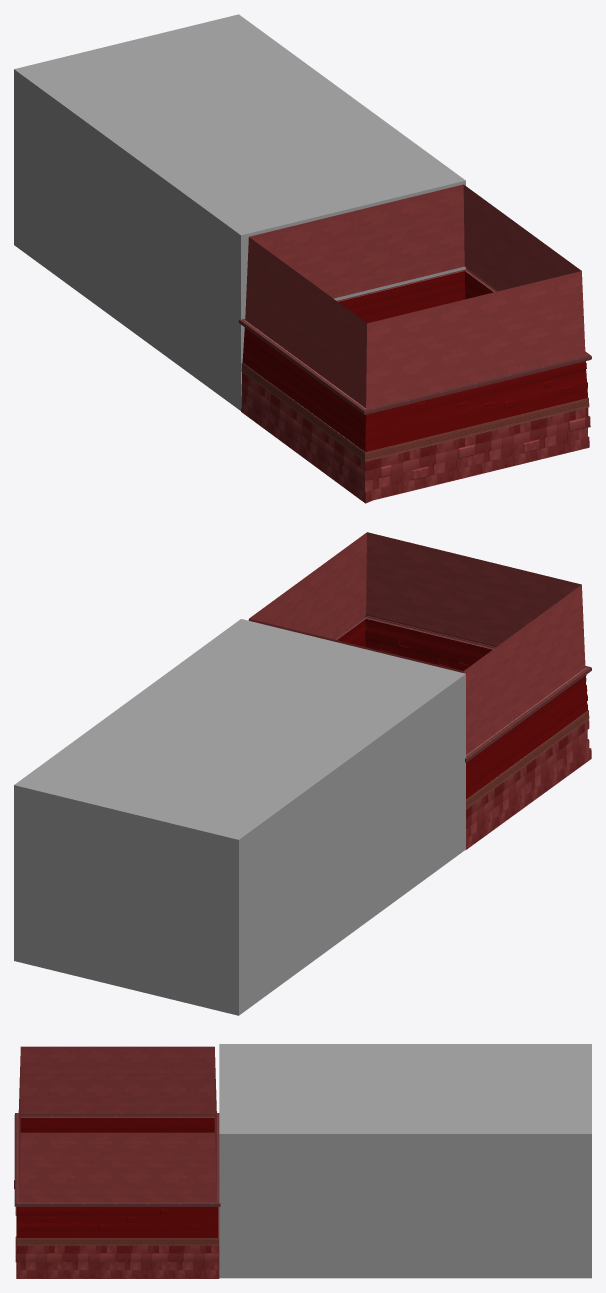
File: LibraryBlock.fbx
The picture shows the model from 3 angles, top to bottom: view 1: azimuth 30°, elevation 25°; view 2: azimuth 150°, elevation 25°; view 3: azimuth 270°, elevation 25°; orthographic projection. The views are drawn at different scales.
Parts seen in each view (by area): view 1: pCube144, polySurface86; view 2: pCube144, polySurface86; view 3: pCube144, polySurface86.
Part boxes in pixels (bbox=[...]): pCube144: bbox=[14, 14, 465, 410]; polySurface86: bbox=[238, 184, 591, 503]; pCube144: bbox=[14, 619, 465, 1015]; polySurface86: bbox=[248, 532, 591, 849]; pCube144: bbox=[219, 1044, 591, 1278]; polySurface86: bbox=[14, 1046, 220, 1278].
Size of the model in its own units: 25.32 by 18.75 by 67.83.
